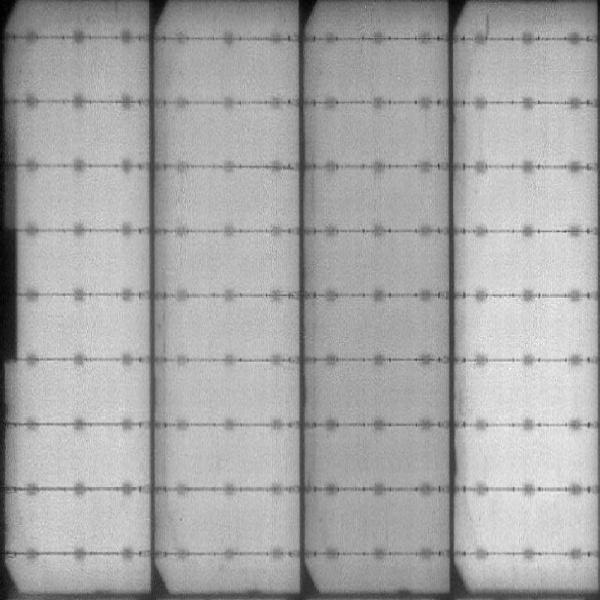black_border: (1, 127, 22, 366)
scratch: (482, 10, 494, 43)
